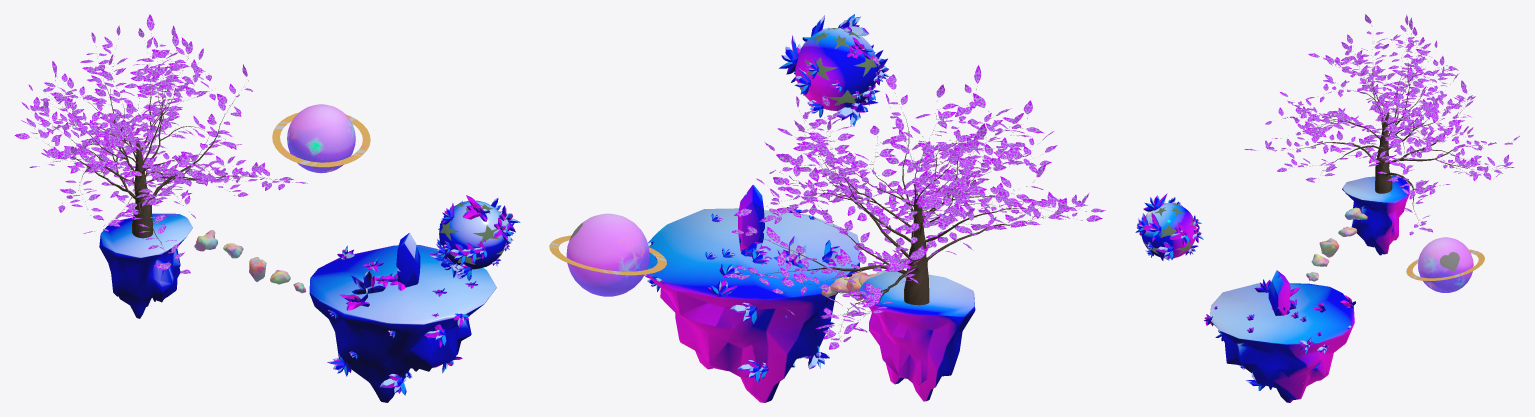
The model's file is crystal-planet.glb.
3 renders of one model, left to right at view 1: azimuth 30°, elevation 25°; view 2: azimuth 150°, elevation 25°; view 3: azimuth 270°, elevation 25°, orthographic. The views are drawn at different scales.
Visible parts, largest first — view 1: TreeLeaves, MainPlanet, TreePlanet, SaturnBody, TreeBark, SmallCrystalPlanet, SmallRocks, SaturnRing, MainCrystal, Crystal_000; view 2: MainPlanet, TreeLeaves, TreePlanet, SaturnBody, SmallCrystalPlanet, TreeBark, MainCrystal, SaturnRing, SmallRocks; view 3: TreeLeaves, MainPlanet, TreePlanet, SaturnBody, TreeBark, SmallCrystalPlanet, SmallRocks, MainCrystal, SaturnRing.
Part boxes in pixels (x1,y1,x2,y2): TreeLeaves: (14, 14, 307, 273); MainPlanet: (309, 244, 496, 402); TreePlanet: (99, 213, 192, 318); SaturnBody: (287, 104, 355, 173); TreeBark: (38, 58, 271, 261); SmallCrystalPlanet: (439, 200, 507, 269); SmallRocks: (194, 230, 306, 293); SaturnRing: (272, 112, 370, 167); MainCrystal: (396, 233, 420, 287); Crystal_000: (351, 270, 385, 294); MainPlanet: (646, 208, 859, 402); TreeLeaves: (722, 56, 1105, 349); TreePlanet: (859, 271, 975, 401); SaturnBody: (566, 213, 649, 296); SmallCrystalPlanet: (795, 28, 878, 110); TreeBark: (753, 115, 1068, 331); MainCrystal: (738, 184, 764, 251); SaturnRing: (549, 235, 666, 275); SmallRocks: (821, 270, 886, 300); TreeLeaves: (1244, 14, 1519, 235); MainPlanet: (1210, 283, 1354, 402); TreePlanet: (1342, 175, 1409, 255); SaturnBody: (1418, 237, 1473, 292); TreeBark: (1281, 43, 1505, 222); SmallCrystalPlanet: (1141, 203, 1196, 258); SmallRocks: (1306, 207, 1367, 281); MainCrystal: (1268, 270, 1289, 315); SaturnRing: (1406, 249, 1484, 280).
Size of the model in its own units: 466 by 411 by 477.
Materials: 10 (10 with a texture image).
